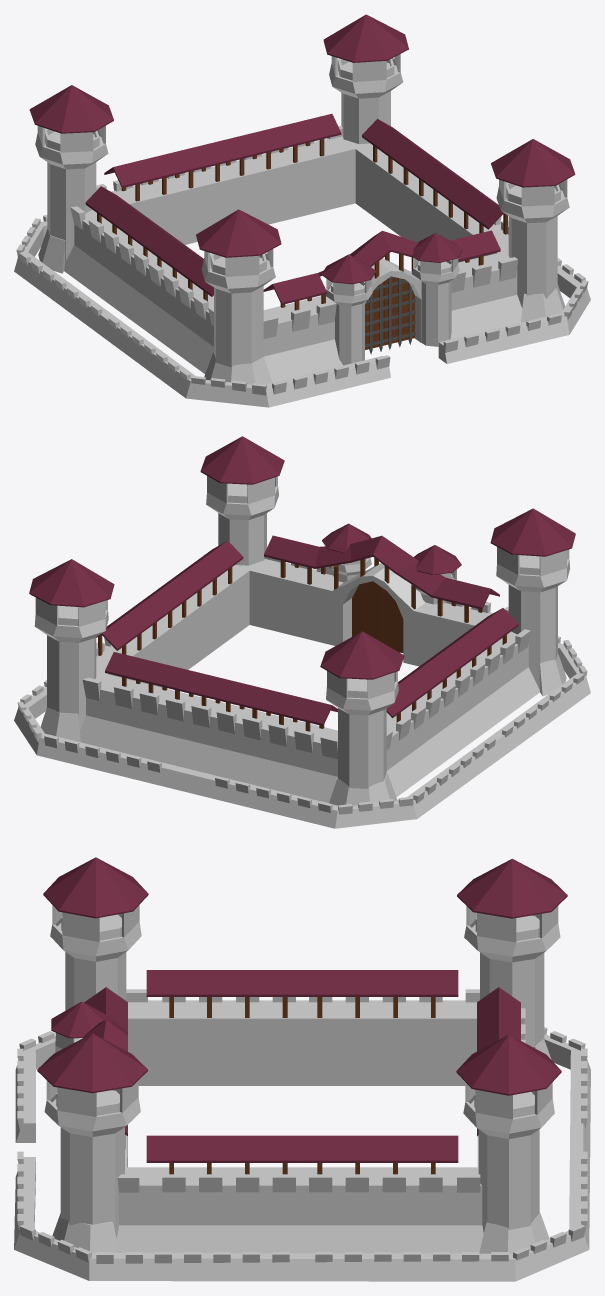
Rendered from Keep - Castle.fbx.
3 renders of one model, top to bottom at view 1: azimuth 30°, elevation 25°; view 2: azimuth 150°, elevation 25°; view 3: azimuth 270°, elevation 25°, orthographic. The views are drawn at different scales.
Parts seen in each view (by area): view 1: Wall, Tower_Cover, Cover, Towers, Rampart, Ditch_wall, Battlement_-_Main, Battlement_-_Ditch, Tower_Open, Portculis, Gate; view 2: Wall, Tower_Cover, Cover, Rampart, Ditch_wall, Towers, Battlement_-_Main, Battlement_-_Ditch, Gate, Tower_Open; view 3: Wall, Tower_Cover, Cover, Ditch_wall, Towers, Rampart, Battlement_-_Ditch, Battlement_-_Main, Tower_Open.
Part boxes in pixels (box(x1,y1,x2,y2)): Wall: box(74, 136, 517, 356); Tower_Cover: box(29, 14, 575, 306); Cover: box(85, 113, 507, 310); Towers: box(47, 91, 557, 367); Rampart: box(38, 229, 565, 384); Ditch_wall: box(14, 221, 590, 407); Battlement_-_Main: box(70, 125, 518, 338); Battlement_-_Ditch: box(16, 215, 588, 395); Tower_Open: box(45, 58, 560, 295); Portculis: box(365, 276, 415, 354); Gate: box(365, 277, 414, 349); Wall: box(86, 559, 528, 776); Tower_Cover: box(29, 436, 575, 715); Cover: box(96, 535, 518, 731); Rampart: box(41, 653, 566, 805); Ditch_wall: box(14, 643, 590, 828); Towers: box(47, 513, 557, 788); Battlement_-_Main: box(82, 550, 530, 759); Battlement_-_Ditch: box(17, 636, 587, 814); Gate: box(352, 581, 403, 652); Tower_Open: box(58, 483, 539, 698); Wall: box(119, 1000, 482, 1225); Tower_Cover: box(37, 857, 567, 1138); Cover: box(84, 970, 520, 1174); Ditch_wall: box(14, 1034, 590, 1281); Towers: box(60, 952, 544, 1238); Rampart: box(52, 1039, 551, 1253); Battlement_-_Ditch: box(17, 1027, 587, 1263); Battlement_-_Main: box(117, 989, 525, 1192); Tower_Open: box(56, 913, 539, 1117).
Bounding box in the file's own units: 9.81 × 4.13 × 9.81.
